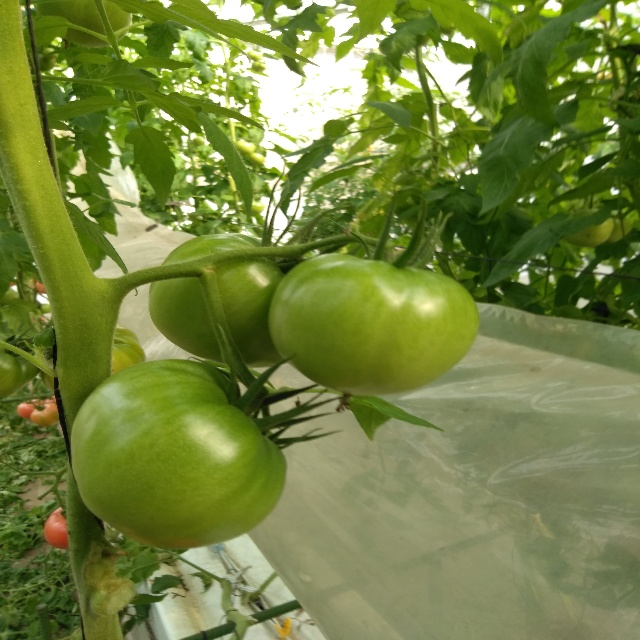b_fully_ripened: (43, 506, 69, 549)
b_green: (69, 359, 287, 550), (267, 252, 480, 396), (148, 234, 306, 368), (37, 319, 146, 396), (34, 0, 132, 48), (0, 332, 40, 398), (563, 208, 613, 246)
b_half_ripened: (30, 403, 59, 426)
